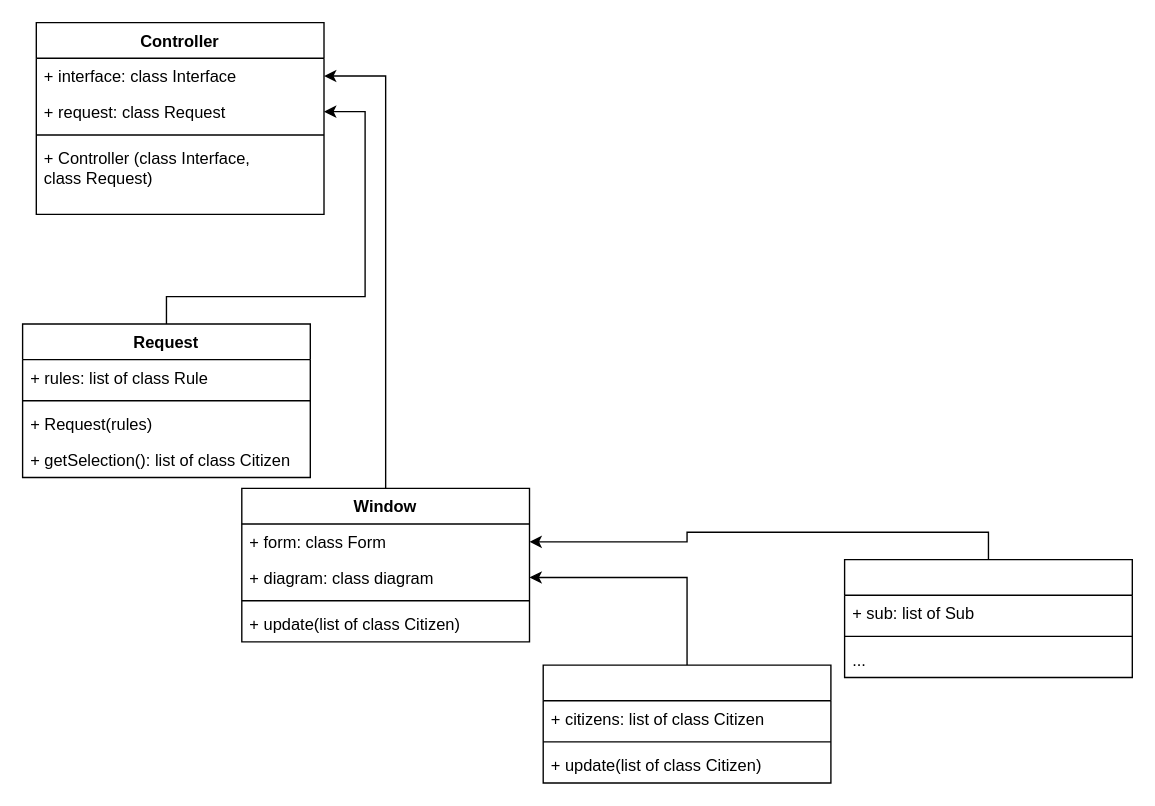
Some shapes in this 1155 by 806 pixel diagram are drawn without their labels. The shapes that lost their labels are listed below. From the top down, each one's box as (x1, y1, x2, y2) in pixels, then its label:
(843, 558, 1132, 677): Form
(542, 664, 831, 783): diagram
